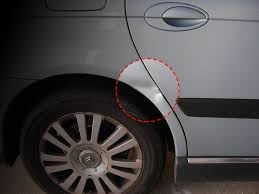Dent: (127, 72, 166, 104)
